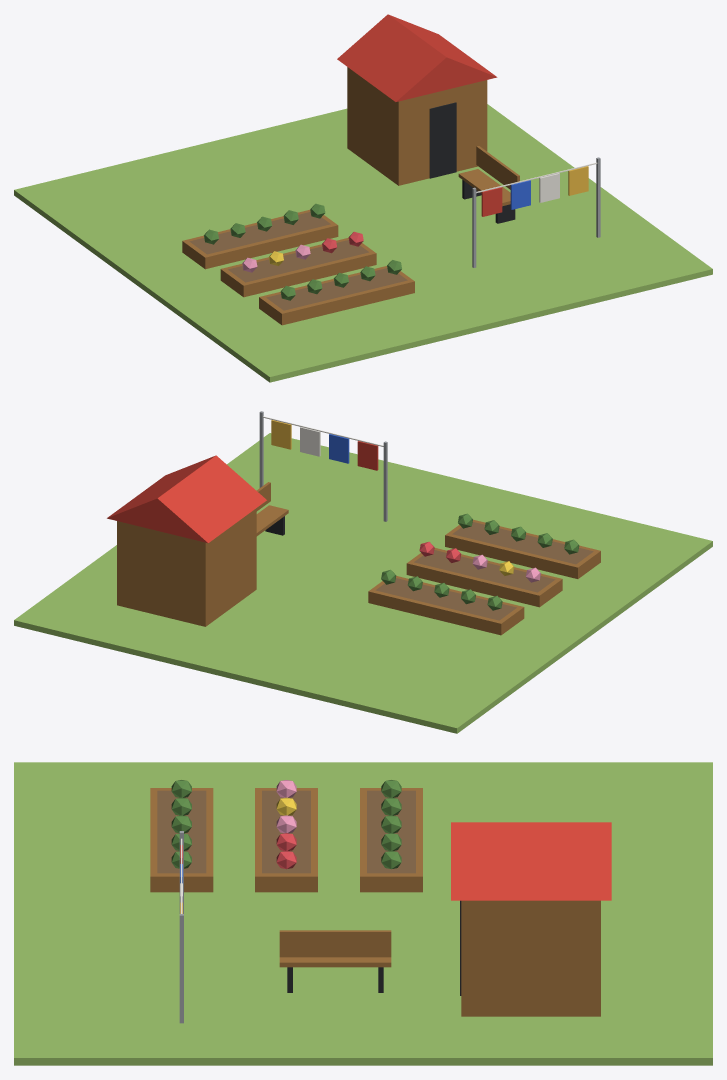
The model's file is Avlu_bahce_Hafif.fbx.
The picture shows the model from 3 angles, top to bottom: view 1: azimuth 30°, elevation 25°; view 2: azimuth 150°, elevation 25°; view 3: azimuth 270°, elevation 25°; orthographic projection. The views are drawn at different scales.
Parts seen in each view (by area): view 1: Avlu_bahce_Hafif; view 2: Avlu_bahce_Hafif; view 3: Avlu_bahce_Hafif.
Boxes of the visible parts, x1,y1,x2,y2 form: Avlu_bahce_Hafif: [14, 14, 712, 382]; Avlu_bahce_Hafif: [14, 411, 712, 733]; Avlu_bahce_Hafif: [14, 762, 712, 1065].
Bounding box in the file's own units: 10 × 2.72 × 10.
